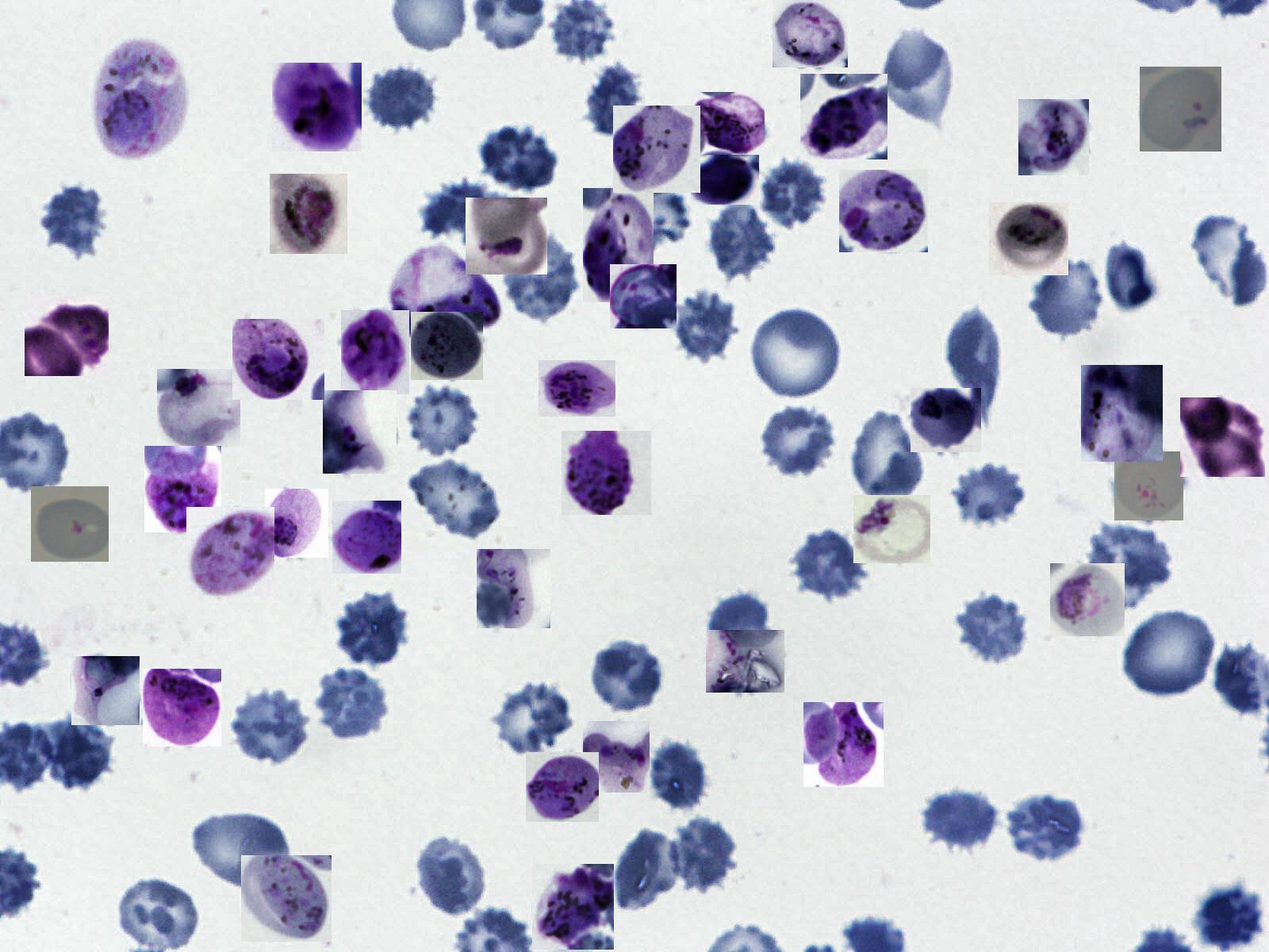Infected: (91, 40, 185, 156), (389, 246, 503, 331), (583, 188, 654, 302), (272, 63, 362, 152), (1081, 365, 1163, 462), (186, 507, 274, 597), (241, 855, 332, 942), (614, 106, 701, 193), (800, 74, 888, 159), (562, 431, 651, 515), (232, 319, 324, 400), (839, 170, 928, 252), (532, 864, 614, 950), (1140, 67, 1221, 152), (803, 702, 884, 787), (1180, 397, 1265, 477), (25, 296, 109, 376), (144, 447, 221, 533), (158, 369, 240, 447), (323, 390, 397, 474), (270, 174, 347, 254), (466, 198, 547, 274), (143, 669, 221, 747), (31, 486, 109, 562), (989, 202, 1068, 275), (477, 549, 550, 628), (341, 310, 409, 394), (1050, 563, 1125, 636), (1018, 99, 1089, 175), (853, 495, 930, 563), (526, 752, 599, 822), (332, 501, 401, 574), (773, 1, 848, 67), (706, 630, 784, 693), (411, 312, 483, 380), (1114, 451, 1183, 520), (71, 656, 140, 725), (583, 722, 650, 793), (692, 93, 765, 155), (911, 388, 981, 452), (265, 489, 328, 558), (539, 360, 615, 416), (611, 264, 677, 328), (691, 152, 759, 205)
Uninfected: (749, 305, 845, 402), (1123, 609, 1216, 701), (192, 808, 293, 892), (405, 457, 501, 539), (879, 26, 957, 125), (850, 409, 930, 502), (946, 302, 1003, 430), (1194, 213, 1269, 306), (1088, 525, 1171, 606), (1030, 255, 1107, 340), (505, 237, 581, 322), (757, 400, 839, 478), (332, 588, 410, 670), (35, 180, 113, 260), (412, 834, 485, 919), (312, 667, 398, 739), (1007, 790, 1088, 866), (918, 784, 1001, 858), (403, 380, 482, 457), (949, 591, 1032, 664), (612, 827, 682, 913), (117, 877, 198, 951), (588, 639, 667, 714), (474, 125, 559, 194), (37, 716, 115, 789), (949, 457, 1029, 528), (707, 201, 776, 282), (493, 682, 574, 751), (232, 689, 308, 762), (363, 62, 442, 132), (793, 528, 869, 598), (1192, 882, 1265, 952), (759, 156, 827, 230), (669, 813, 735, 889), (583, 58, 647, 135), (670, 289, 735, 363), (619, 187, 691, 251), (416, 179, 489, 239), (650, 740, 710, 812), (707, 590, 769, 658), (550, 2, 615, 61), (1103, 240, 1153, 314)
